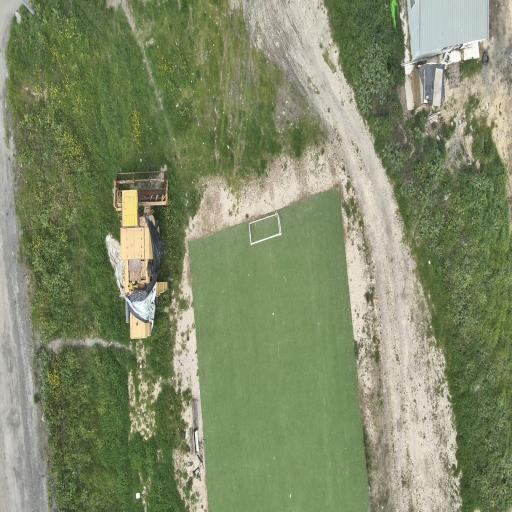harvester: (114, 171, 167, 338)
